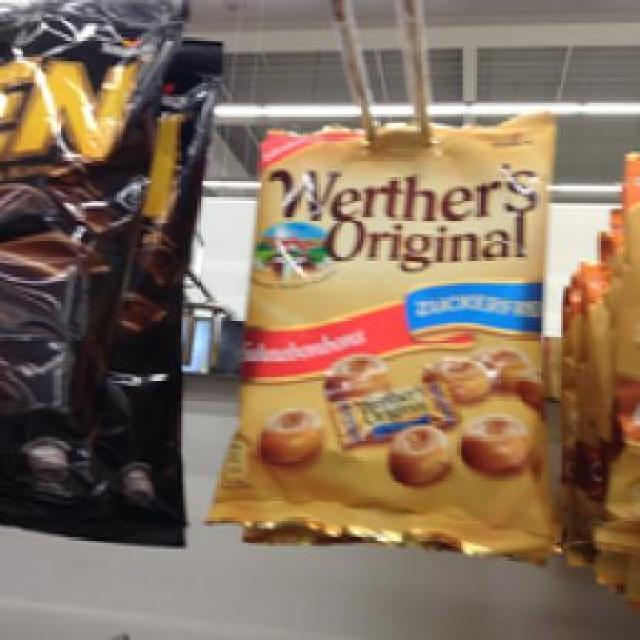Candy: (240, 120, 549, 534)
